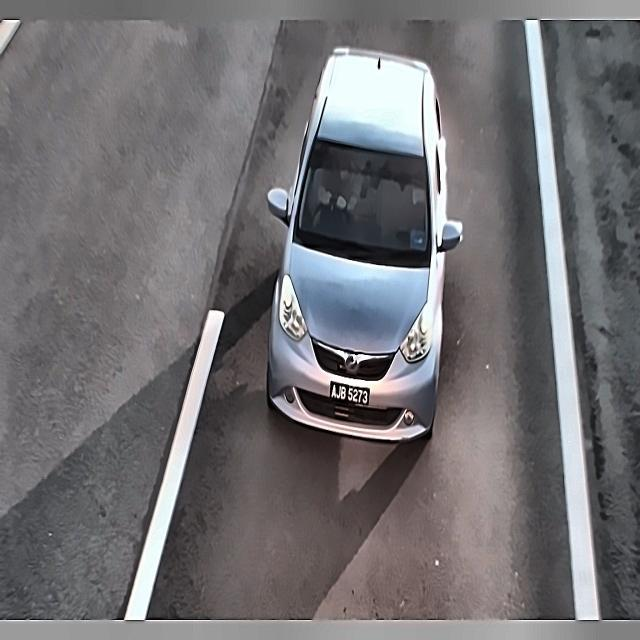car: (324, 373, 372, 411)
